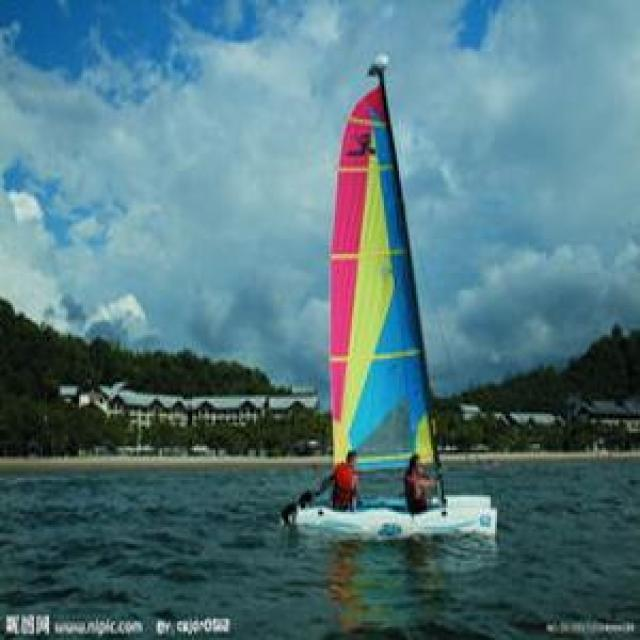sailboat: (291, 44, 505, 539)
